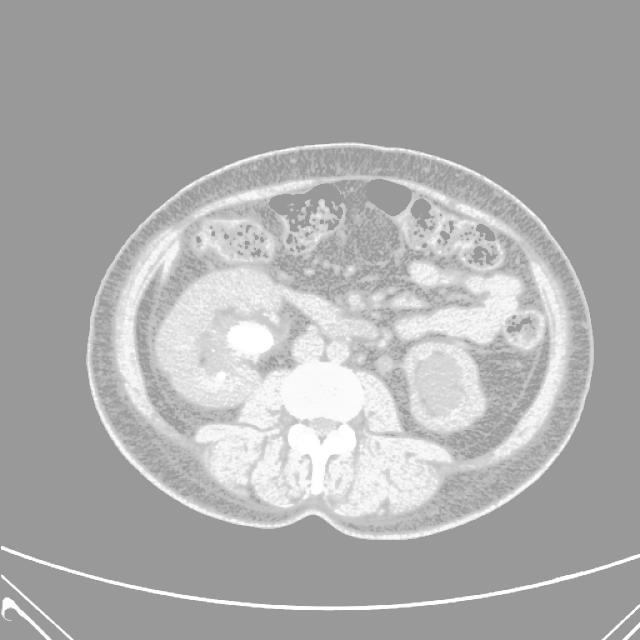STONE: (95, 75, 592, 376)
